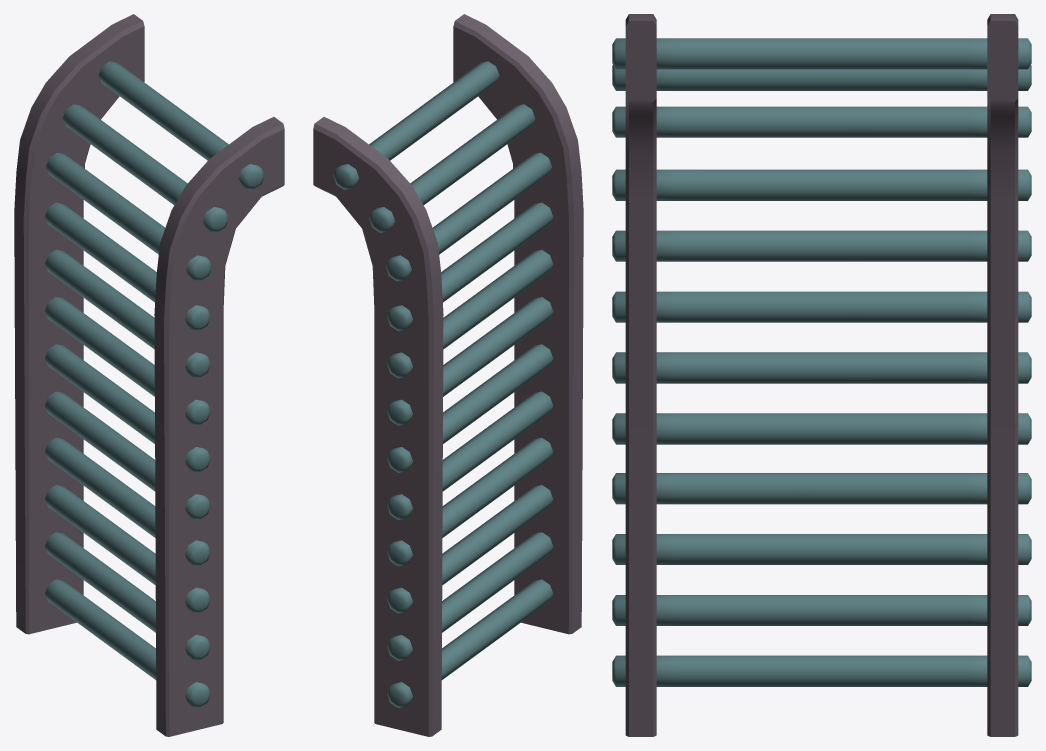
File: GB_128_ladder_var01.glb
The picture shows the model from 3 angles, left to right: view 1: azimuth 30°, elevation 25°; view 2: azimuth 150°, elevation 25°; view 3: azimuth 270°, elevation 25°; orthographic projection. The views are drawn at different scales.
Visible parts, largest first — view 1: LadderVar01; view 2: LadderVar01; view 3: LadderVar01.
Part boxes in pixels (box(x1,y1,x2,y2)): LadderVar01: box(14, 14, 284, 736); LadderVar01: box(313, 14, 583, 736); LadderVar01: box(612, 14, 1031, 736).
Bounding box in the file's own units: 0.4723 × 2.21 × 1.11.
